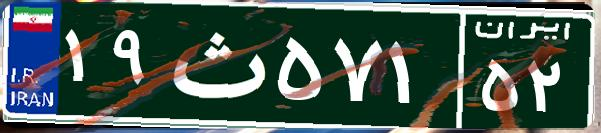1: (385, 28, 445, 110), (57, 26, 110, 107)
2: (525, 38, 570, 115)
5: (273, 28, 330, 110), (475, 38, 525, 113)
7: (330, 28, 385, 110)
9: (110, 28, 158, 105)
ث: (158, 15, 273, 115)
